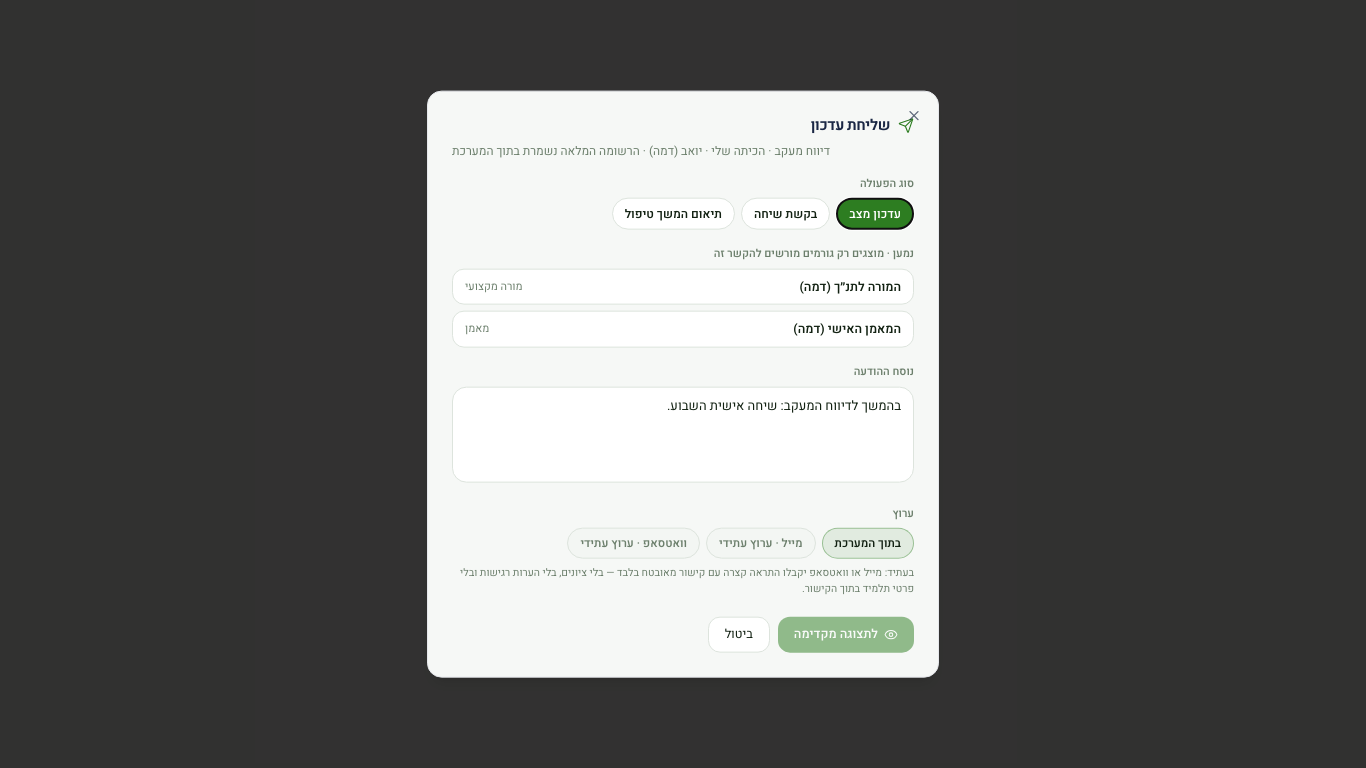
SendUpdateDialog — safe preview flow › requires a recipient before preview is possible
The width and height of the screenshot is (1366, 768).
Expected: the button "לתצוגה מקדימה" is disabled, x1=778 y1=616 x2=914 y2=652
Click the text "המורה לתנ״ך (דמה)" at (850, 286), box x1=800 y1=277 x2=901 y2=296
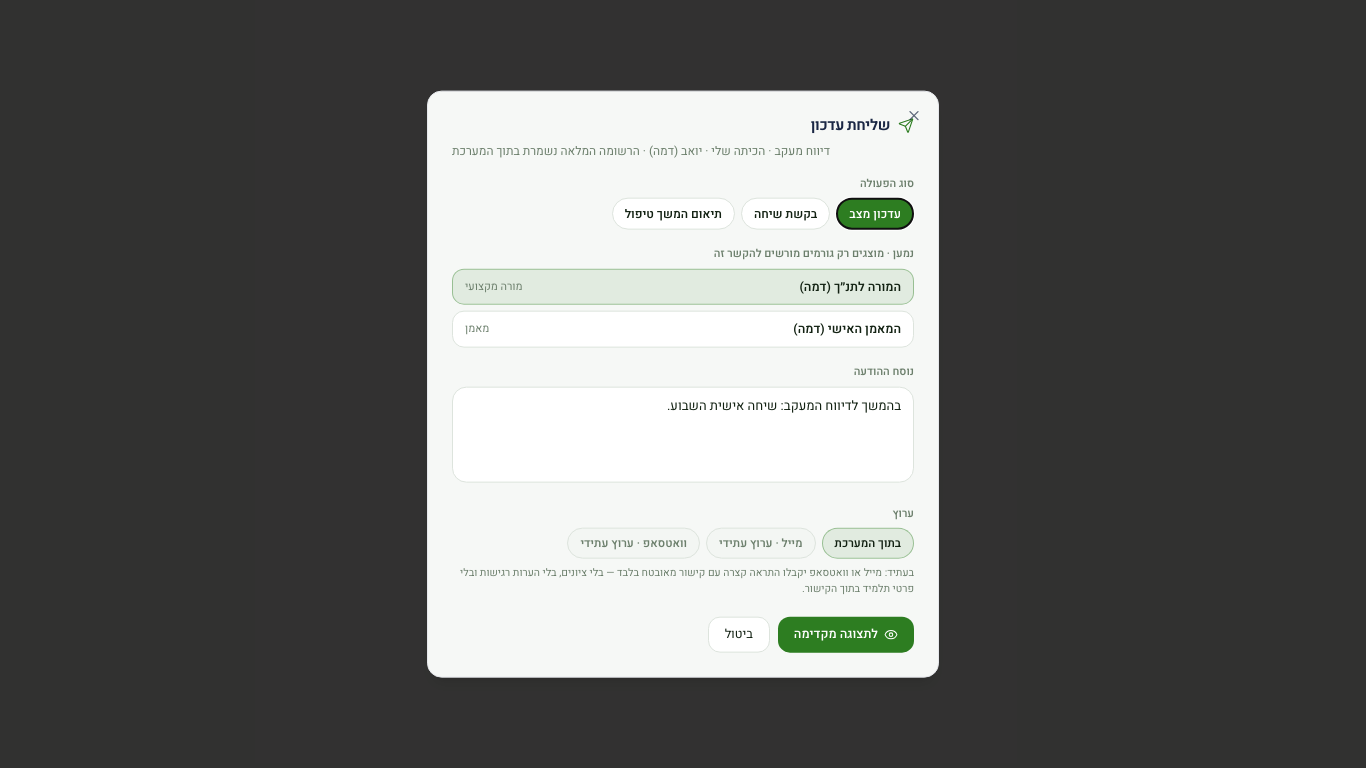
Expected: the button "לתצוגה מקדימה" is enabled, x1=778 y1=616 x2=914 y2=652
